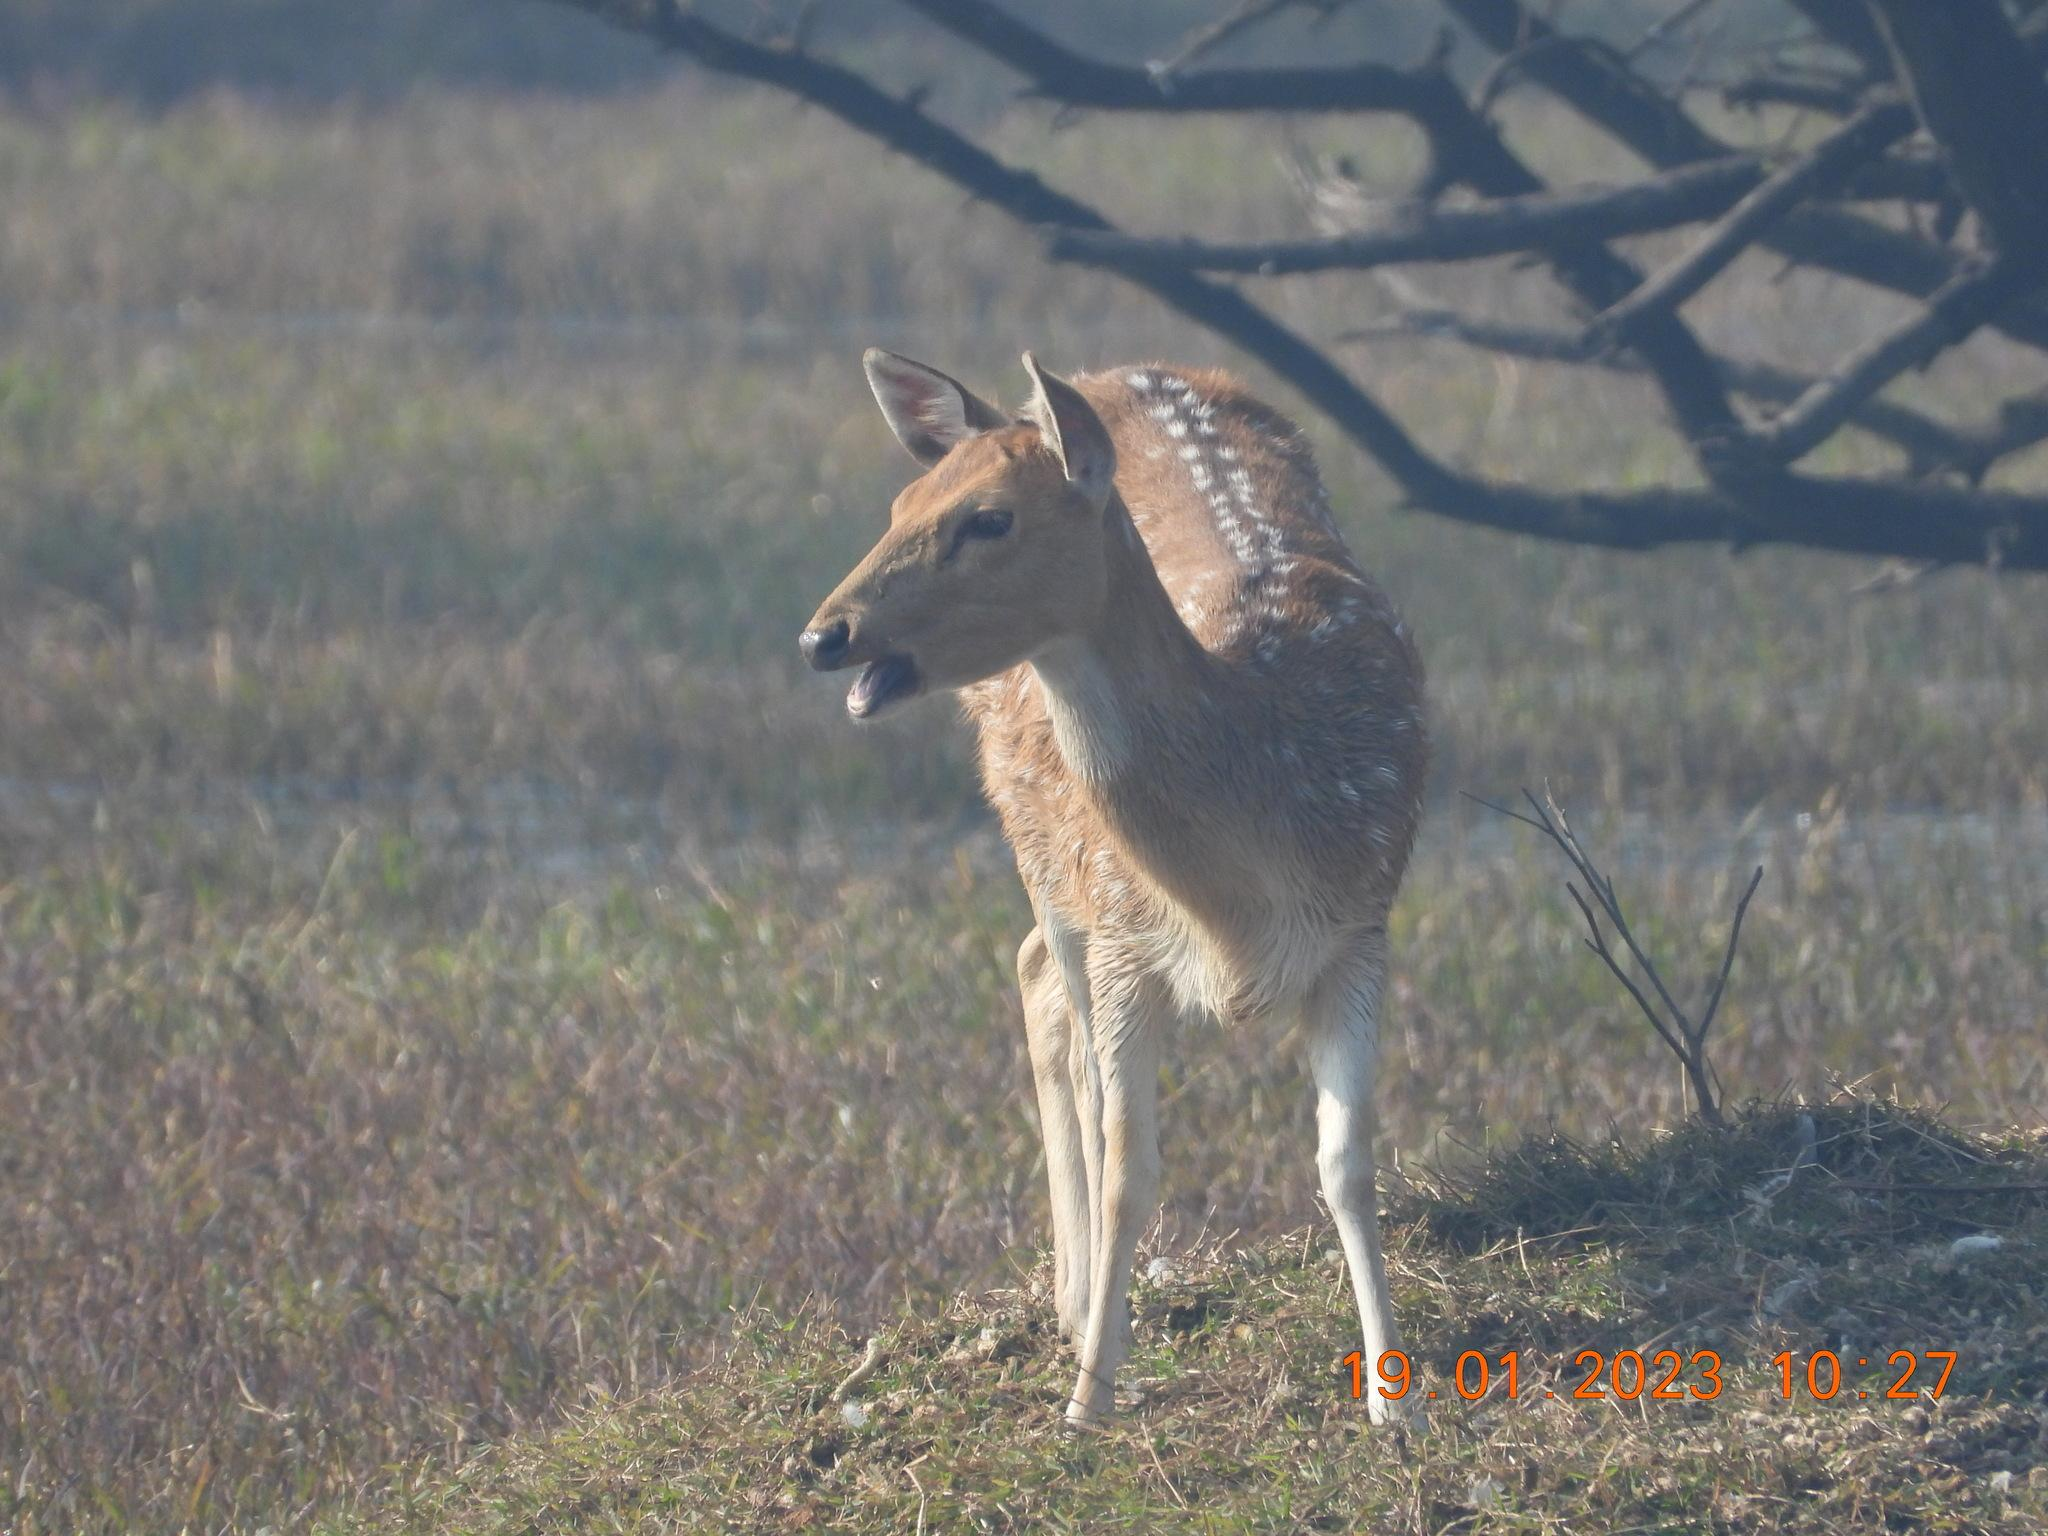Deer: (798, 349, 1426, 1426)
